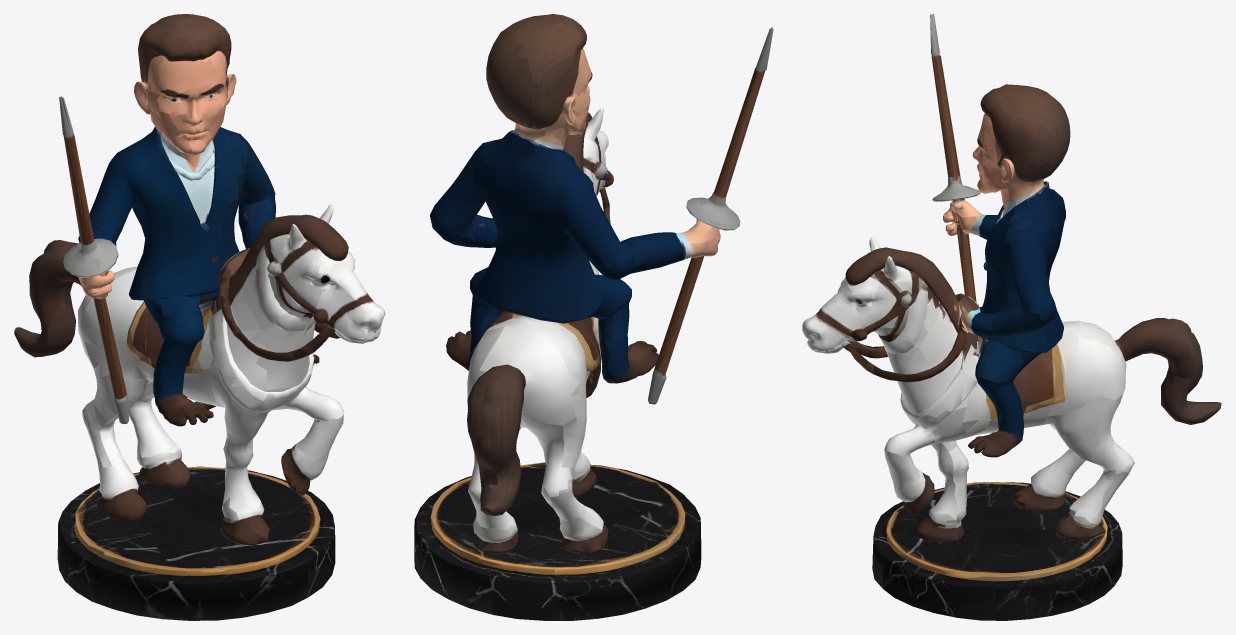
Rendered from right-knight-ks.glb.
3 views of the same model, side by side, from view 1: azimuth 30°, elevation 25°; view 2: azimuth 150°, elevation 25°; view 3: azimuth 270°, elevation 25° (orthographic). The views are drawn at different scales.
Bounding box in the file's own units: 0.5781 × 1 × 0.7949.
Materials: 1 (1 with a texture image).
